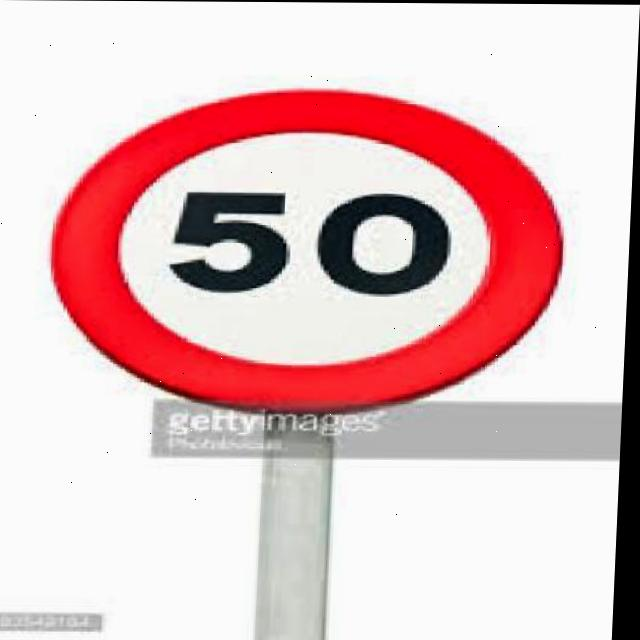Speed limit 50: (43, 83, 576, 420)
